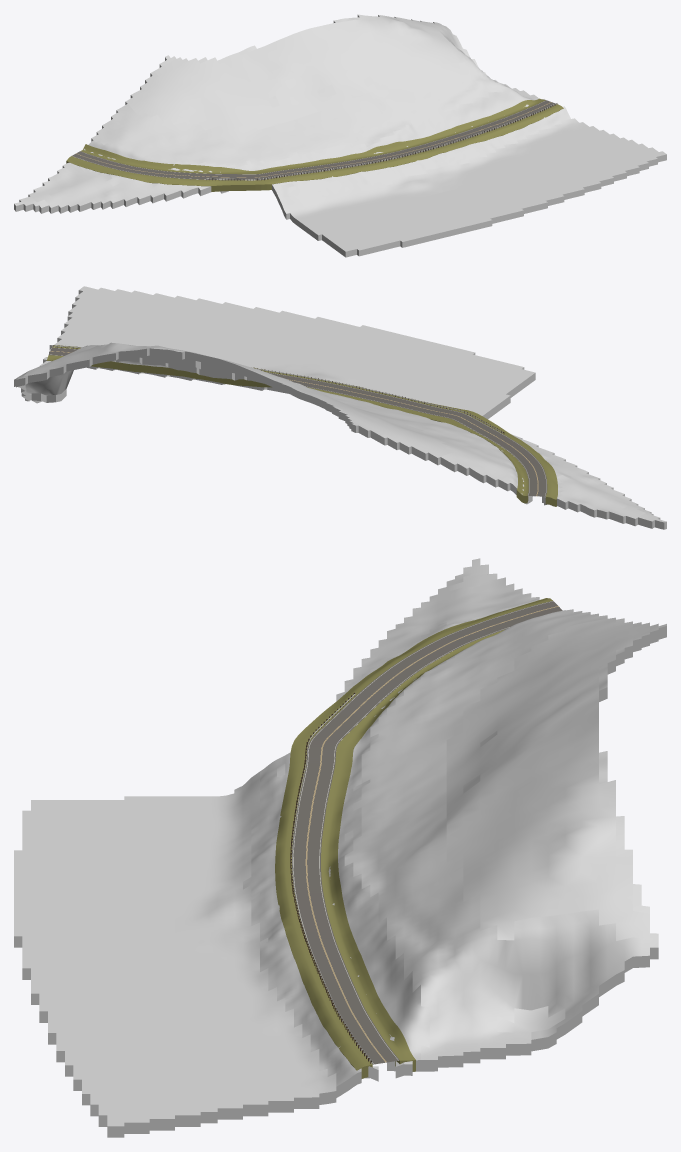
Rendered from conz_37.glb.
The picture shows the model from 3 angles, top to bottom: view 1: azimuth 30°, elevation 25°; view 2: azimuth 150°, elevation 25°; view 3: azimuth 270°, elevation 25°; orthographic projection. The views are drawn at different scales.
Parts seen in each view (by area): view 1: terrain37, verge37R, road37, verge37L, beam37_30320, paint_yellow37; view 2: terrain37, road37, verge37L, verge37R, beam37_30320; view 3: terrain37, road37, verge37R, verge37L, paint_white37, paint_yellow37, posts37_30320.
Part boxes in pixels (bbox=[...]): terrain37: bbox=[14, 14, 666, 257]; verge37R: bbox=[66, 104, 563, 191]; road37: bbox=[72, 100, 556, 180]; verge37L: bbox=[81, 98, 545, 174]; beam37_30320: bbox=[206, 103, 556, 179]; paint_yellow37: bbox=[76, 102, 551, 177]; terrain37: bbox=[14, 286, 666, 529]; road37: bbox=[48, 347, 547, 496]; verge37L: bbox=[46, 355, 528, 503]; verge37R: bbox=[52, 345, 557, 506]; beam37_30320: bbox=[52, 345, 502, 432]; terrain37: bbox=[14, 558, 666, 1137]; road37: bbox=[292, 601, 562, 1064]; verge37R: bbox=[275, 598, 552, 1078]; verge37L: bbox=[321, 629, 504, 1071]; paint_white37: bbox=[293, 601, 553, 1063]; paint_yellow37: bbox=[305, 606, 558, 1062]; posts37_30320: bbox=[290, 692, 371, 1063].
Size of the model in its own units: 298 by 49.38 by 154.
